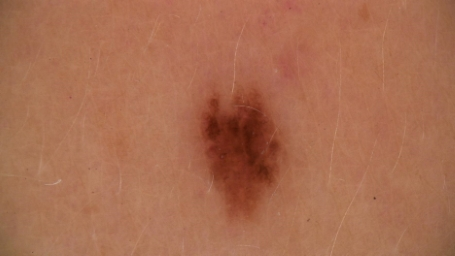melanoma: (207, 92, 280, 219)
